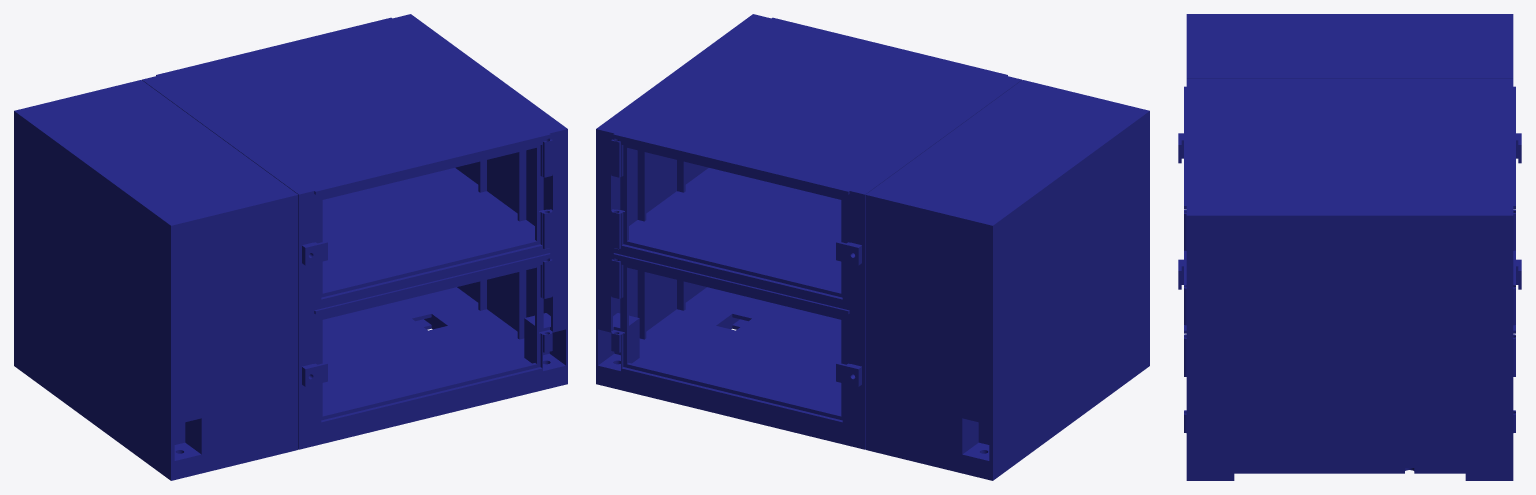
Rendered from cargo_bay.dae.
The picture shows the model from 3 angles, left to right: view 1: azimuth 30°, elevation 25°; view 2: azimuth 150°, elevation 25°; view 3: azimuth 270°, elevation 25°; orthographic projection. The views are drawn at different scales.
Parts seen in each view (by area): view 1: cargo_bay_front, cargo_bay_rear; view 2: cargo_bay_front, cargo_bay_rear; view 3: cargo_bay_front, cargo_bay_rear.
Boxes of the visible parts, box(x1,y1,x2,y2) form: cargo_bay_front: box(142, 14, 567, 449); cargo_bay_rear: box(14, 80, 298, 480); cargo_bay_front: box(596, 14, 1021, 449); cargo_bay_rear: box(865, 80, 1149, 480); cargo_bay_front: box(1178, 79, 1521, 480); cargo_bay_rear: box(1186, 14, 1513, 78).
Size of the model in its own units: 0.28 by 0.2016 by 0.172.
